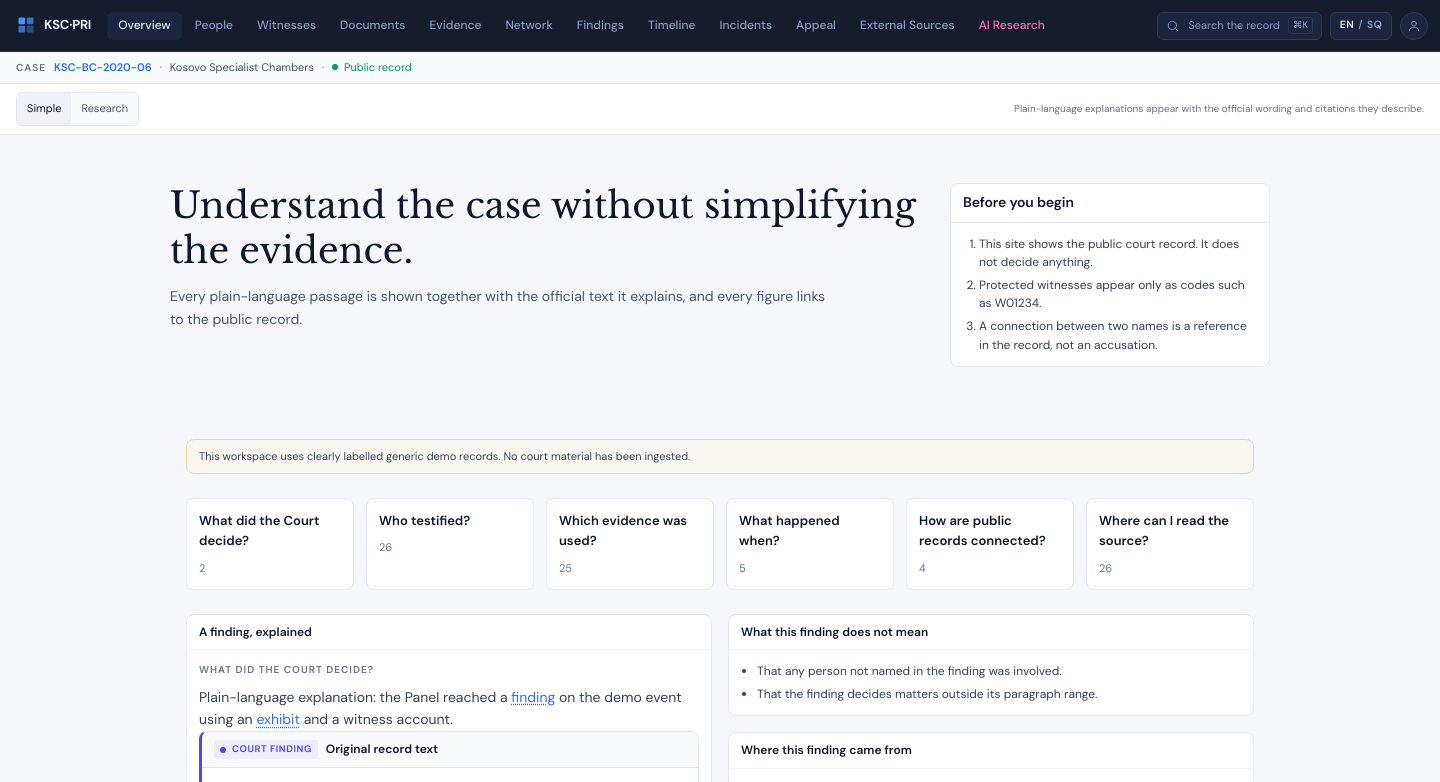
Scenario: Phase 5B visual-parity remediation › public mode has a dedicated composition with terms, does-not-mean and the other side
Expected: the element named "Mode" is shown, [16, 92, 139, 126]
Expected: the list item "Protected witnesses appear only as codes such as W01234." is shown, [979, 276, 1257, 313]
Click the button "finding".
click(533, 697)  # box [511, 686, 555, 708]
(page scrolled)
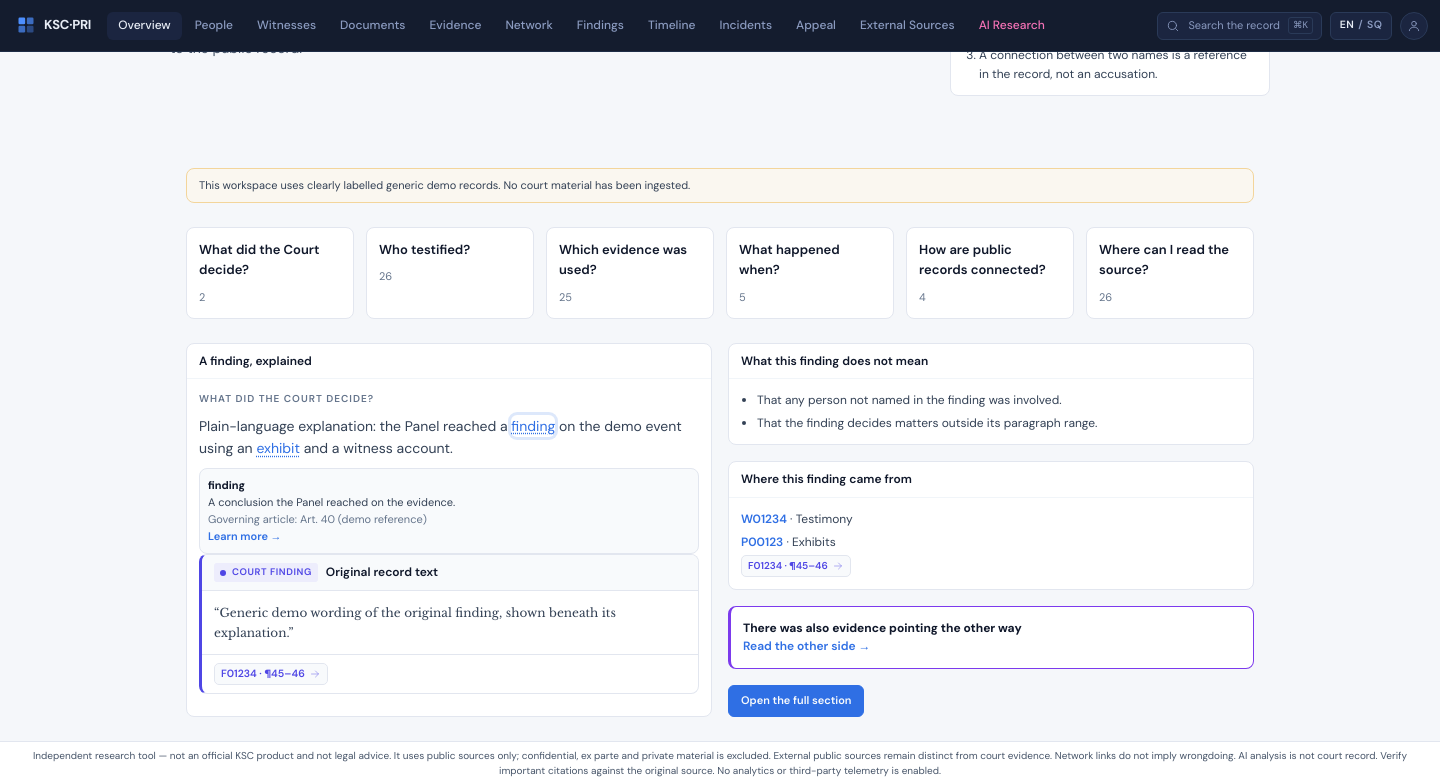
Expected: the heading "What this finding does not mean" is shown, [741, 352, 928, 370]
Now the dialog named "Legal term" is shown, box [199, 468, 699, 554]
